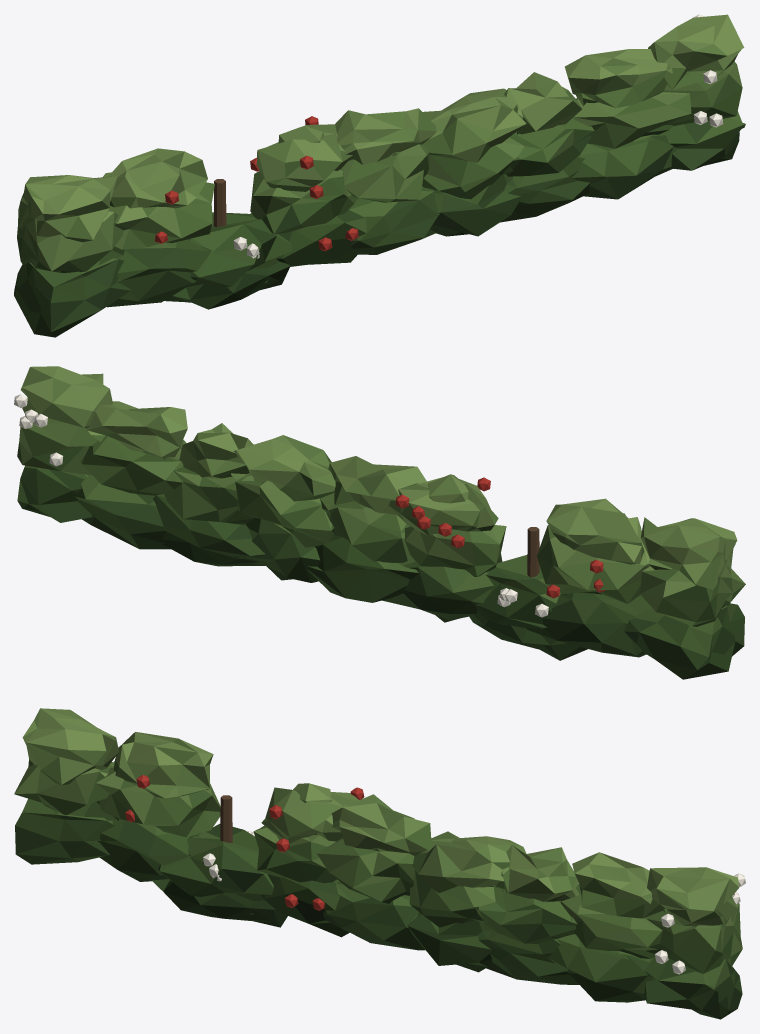
Rendered from lwf_hedge_straight_8m_a_v1.glb.
3 views of the same model, one above another, from view 1: azimuth 30°, elevation 25°; view 2: azimuth 150°, elevation 25°; view 3: azimuth 330°, elevation 25° (orthographic).
Parts seen in each view (by area): view 1: lwf_hedge_straight_8m_a_v1; view 2: lwf_hedge_straight_8m_a_v1; view 3: lwf_hedge_straight_8m_a_v1.
Boxes of the visible parts, x1,y1,x2,y2 form: lwf_hedge_straight_8m_a_v1: [14, 14, 745, 337]; lwf_hedge_straight_8m_a_v1: [14, 366, 745, 679]; lwf_hedge_straight_8m_a_v1: [14, 708, 745, 1019].
Size of the model in its own units: 8.2 by 1.76 by 1.
1 material, 1 textured.
